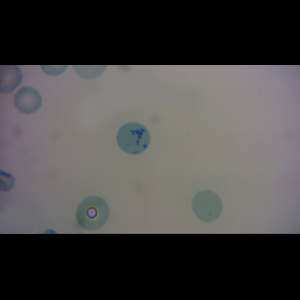aggregate reticulocyte: (115, 121, 152, 156)
erythrocyte: (75, 195, 110, 231), (13, 85, 43, 115)
punctate reticulocyte: (191, 189, 223, 223)
